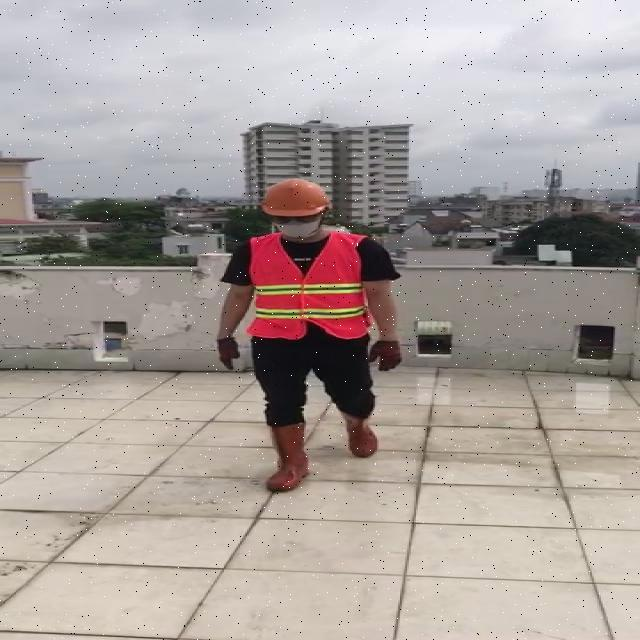Hard_hat: (255, 178, 332, 221)
Vest: (246, 228, 365, 343)
